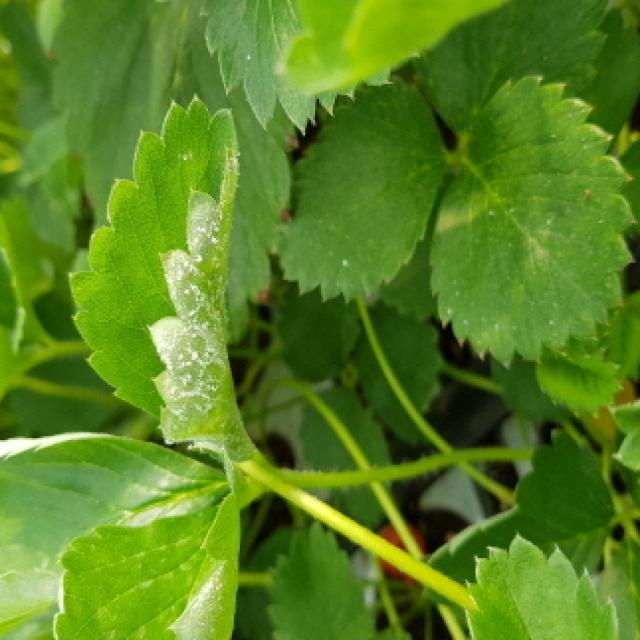Powdery Mildew Leaf: (66, 90, 268, 465), (52, 477, 245, 640)
